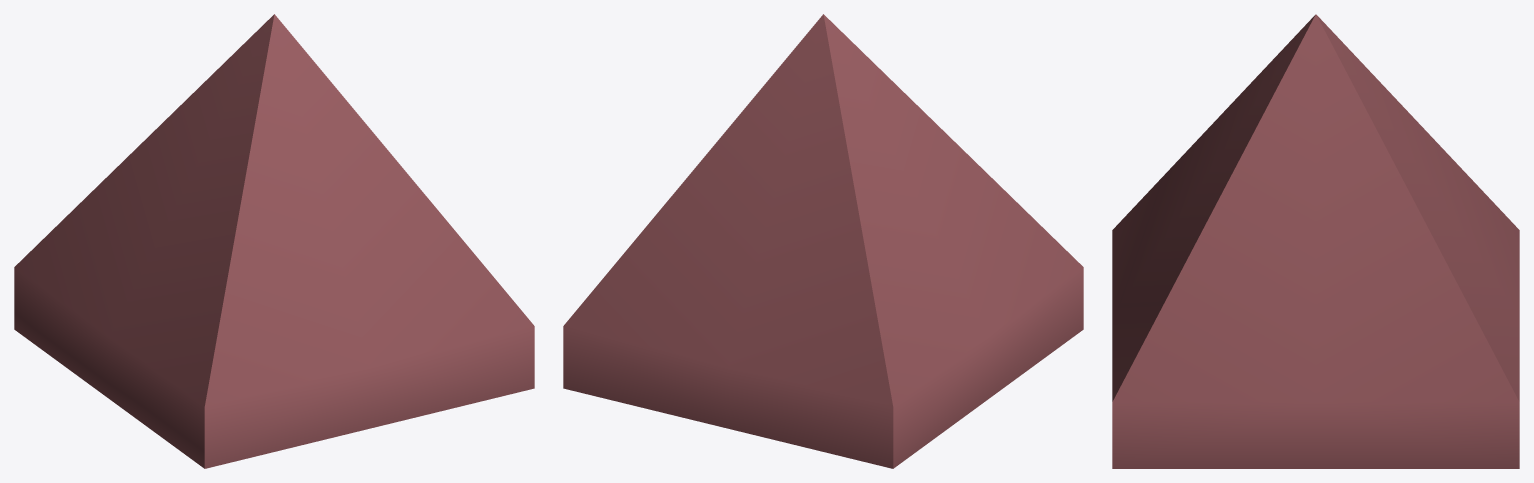
Rendered from spikeObstacle.fbx.
The picture shows the model from 3 angles, left to right: view 1: azimuth 30°, elevation 25°; view 2: azimuth 150°, elevation 25°; view 3: azimuth 270°, elevation 25°; orthographic projection. The views are drawn at different scales.
Visible parts, largest first — view 1: SpikeObstacle; view 2: SpikeObstacle; view 3: SpikeObstacle.
Part boxes in pixels (box(x1,y1,x2,y2)): SpikeObstacle: box(14, 14, 534, 468); SpikeObstacle: box(563, 14, 1083, 468); SpikeObstacle: box(1112, 14, 1519, 468).
Bounding box in the file's own units: 1.81 × 1.81 × 1.81.
